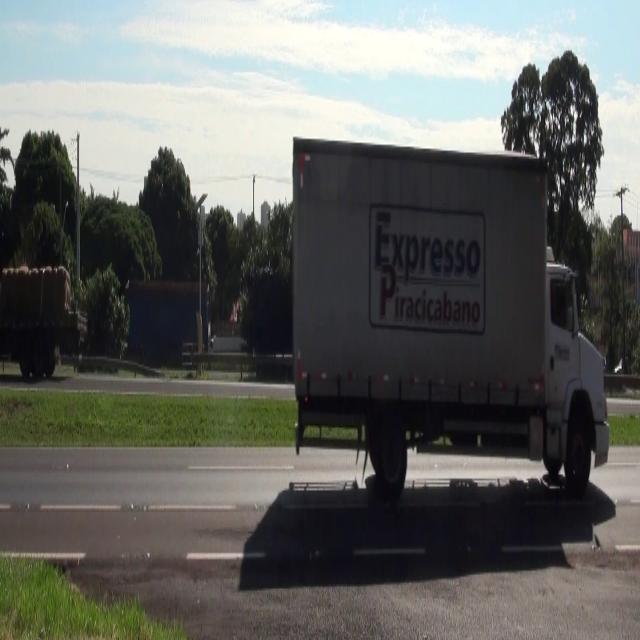-axle: (372, 414, 407, 509), (563, 411, 592, 496)
